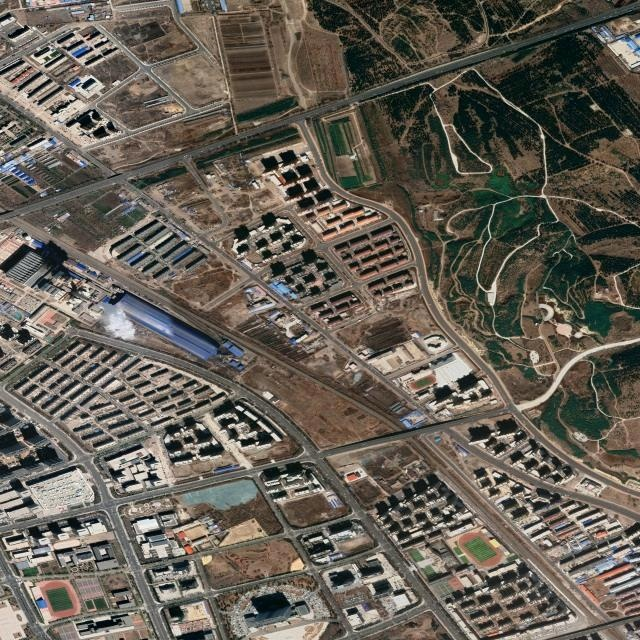coal_fired_power_plant: (6, 247, 122, 323)
